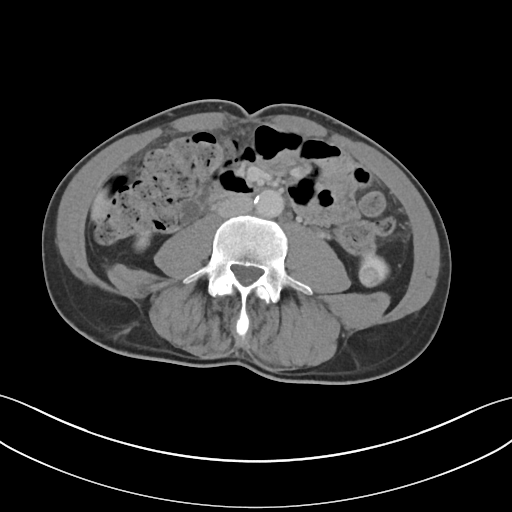Lesion: (362, 268, 382, 285)
